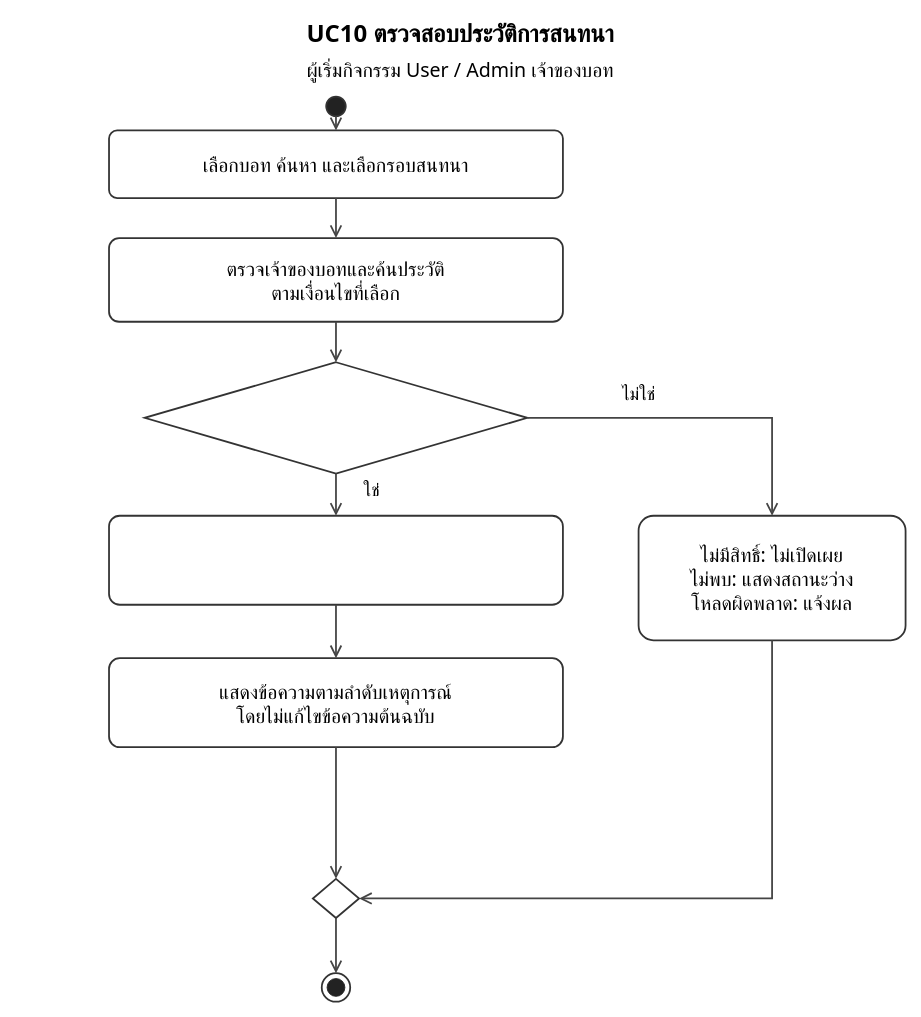
The diagram is 921 pixels wide and 1017 high, and some of its shapes have lost their labels. The box of each missing label's shape, as (x1, y1, x2, y2) in pixels:
มีสิทธิ์และพบรายการ: (143, 361, 528, 474)
อ่านรายละเอียดข้อความ ผู้ส่ง ช่องทาง และเวลา: (108, 514, 563, 605)
